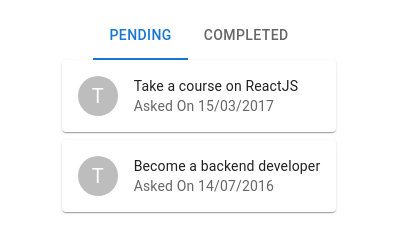
Test: DashboardComponent › switches between pending and completed tabs
Expected: the text "Take a course on ReactJS" is shown, [134,76,320,96]
Expected: the text "Become a backend developer" is shown, [134,156,320,176]
Click the tab "Completed": x=246, y=36 [188,12,304,60]
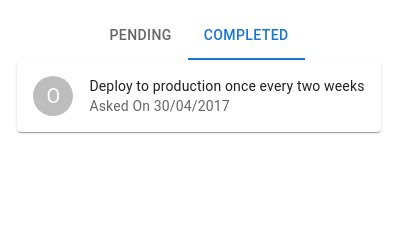
Now the text "Deploy to production once every two weeks" is shown, box [90,76,365,96]
Now the button "Take a course on ReactJS" is gone
